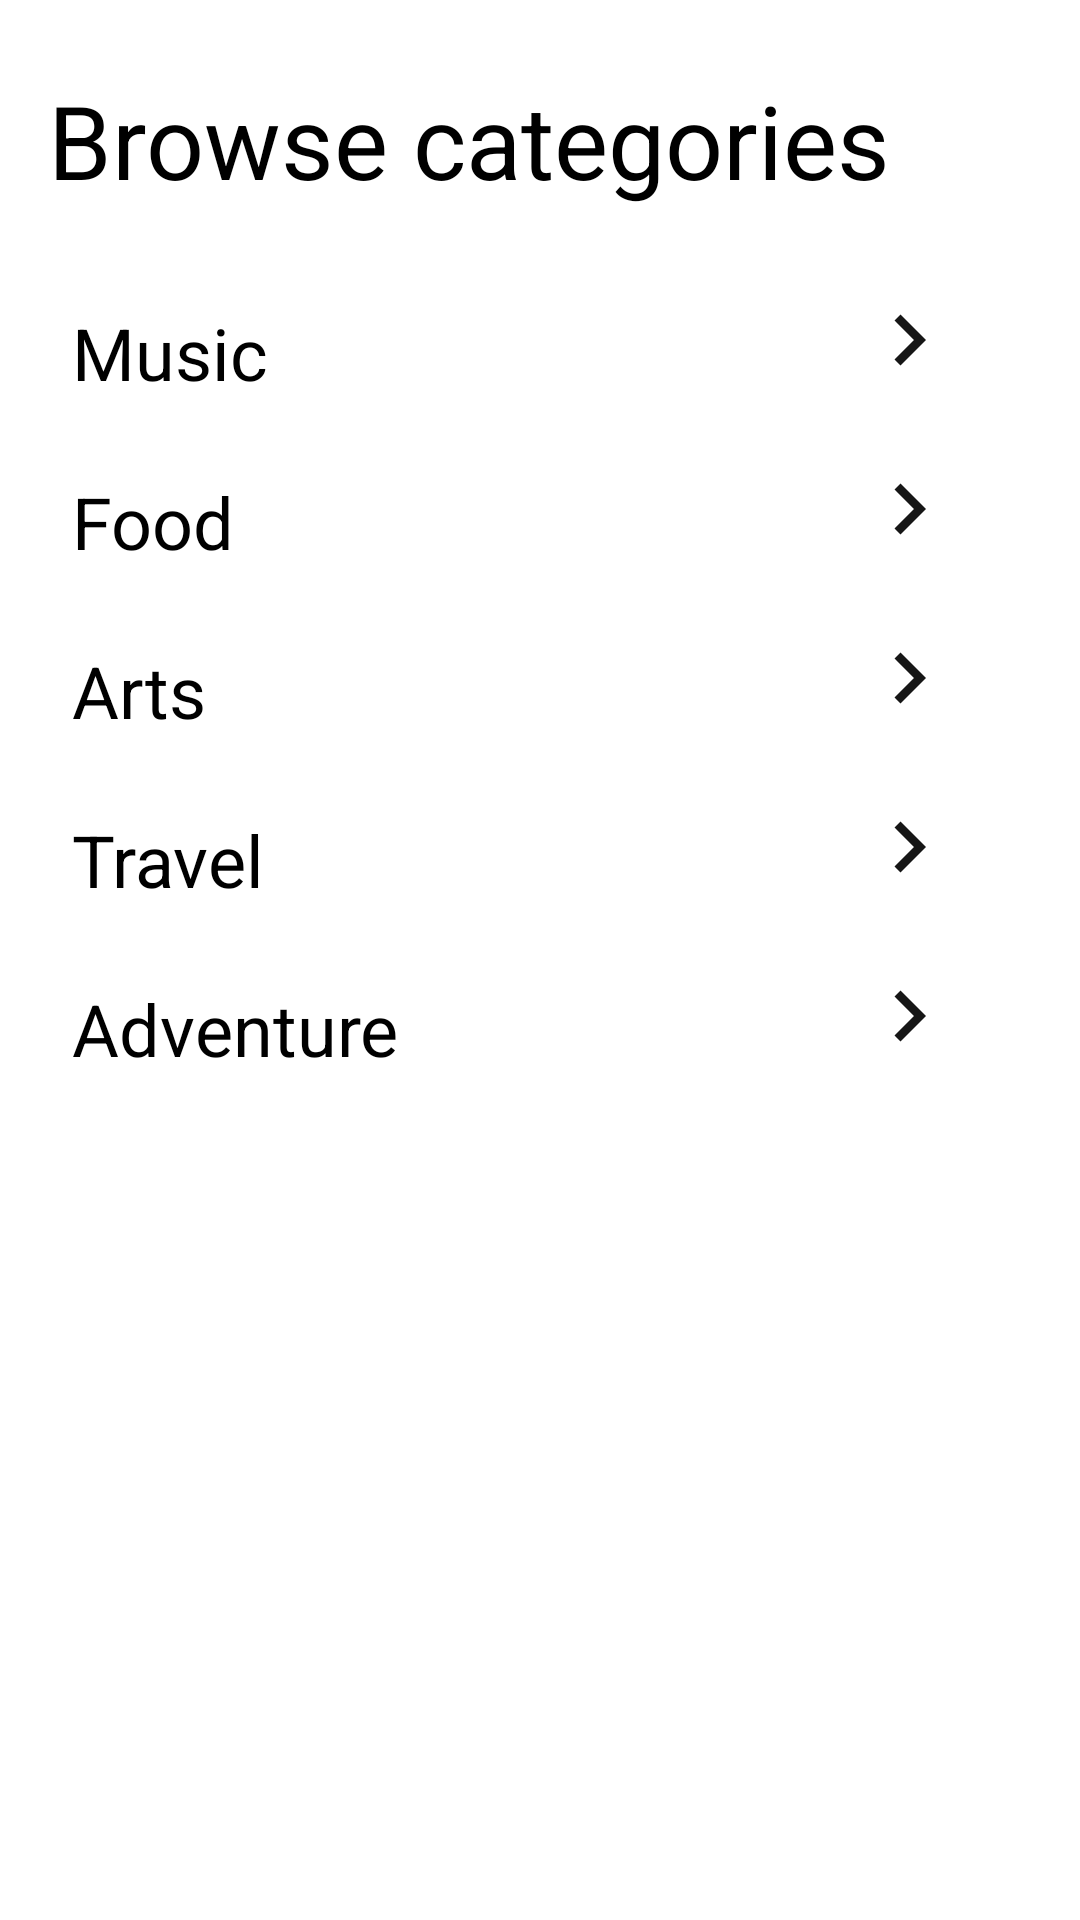

Named icons in this screenshot (1080*1920) and their bounding boxes, (x1, y1, x2, y2):
chevron right: (894, 314, 926, 366), (894, 483, 926, 535), (894, 652, 926, 704), (894, 821, 926, 873), (894, 990, 926, 1042)
